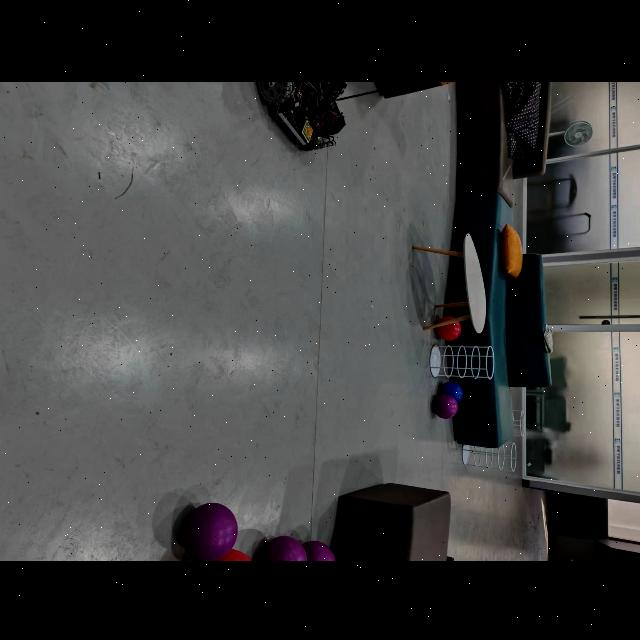B: (440, 380, 463, 401)
P: (182, 501, 237, 560), (259, 535, 307, 560), (303, 540, 335, 560), (434, 394, 458, 418)
R: (437, 314, 463, 340), (216, 548, 252, 560)
S: (430, 344, 495, 378), (462, 441, 517, 471)
